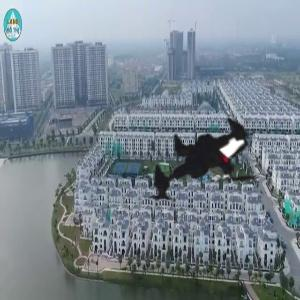drone: (117, 82, 295, 260)
